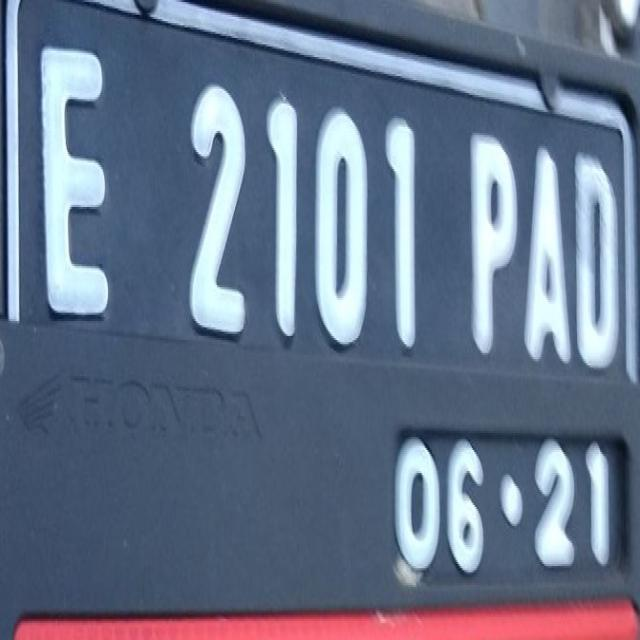plate: (9, 0, 639, 579)
